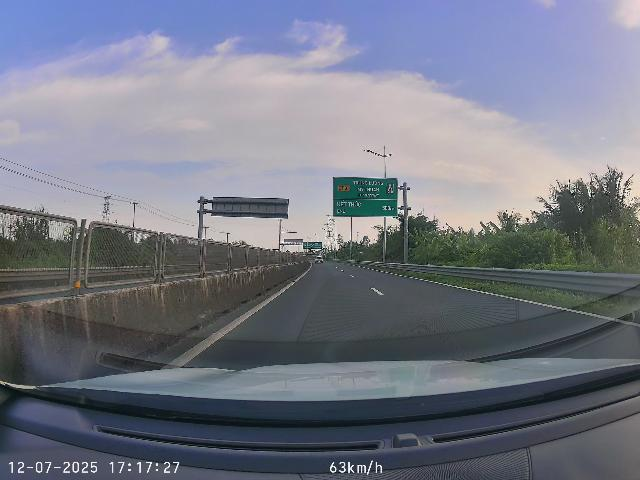438-ket-thuc-duong-cao-toc: (386, 183, 394, 195)
